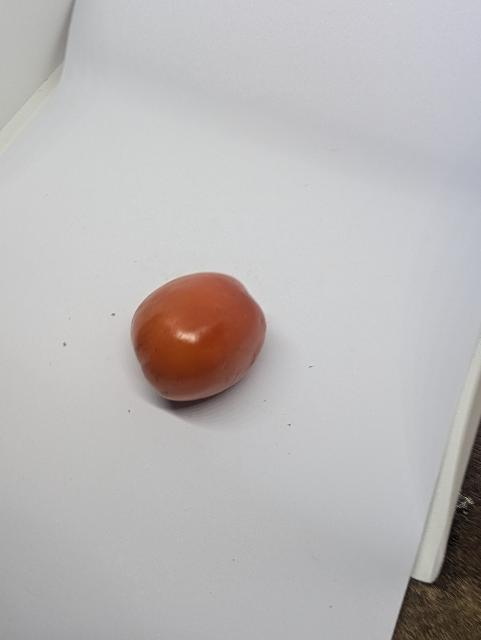red: (129, 270, 270, 403)
